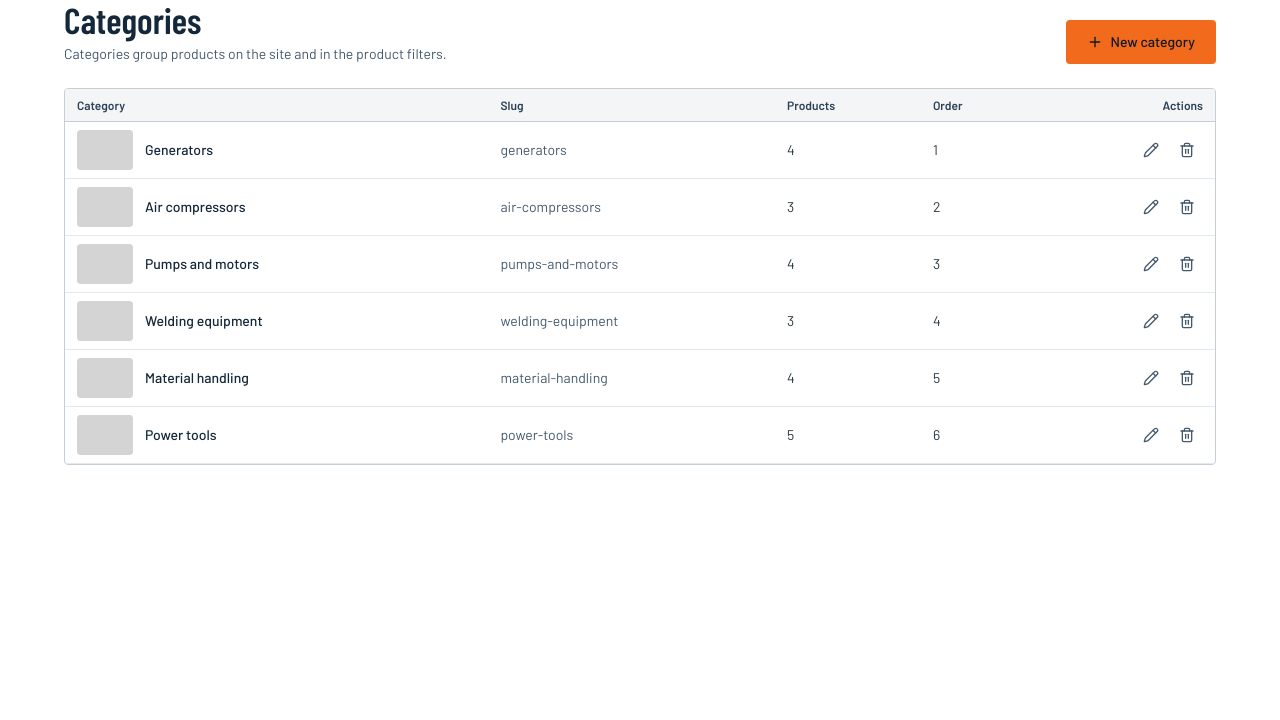
Test case: deleting a category that products use shows the reason and keeps the row
Click the button named "delete generators" at {"x": 1187, "y": 150}, box [1171,134,1203,166]
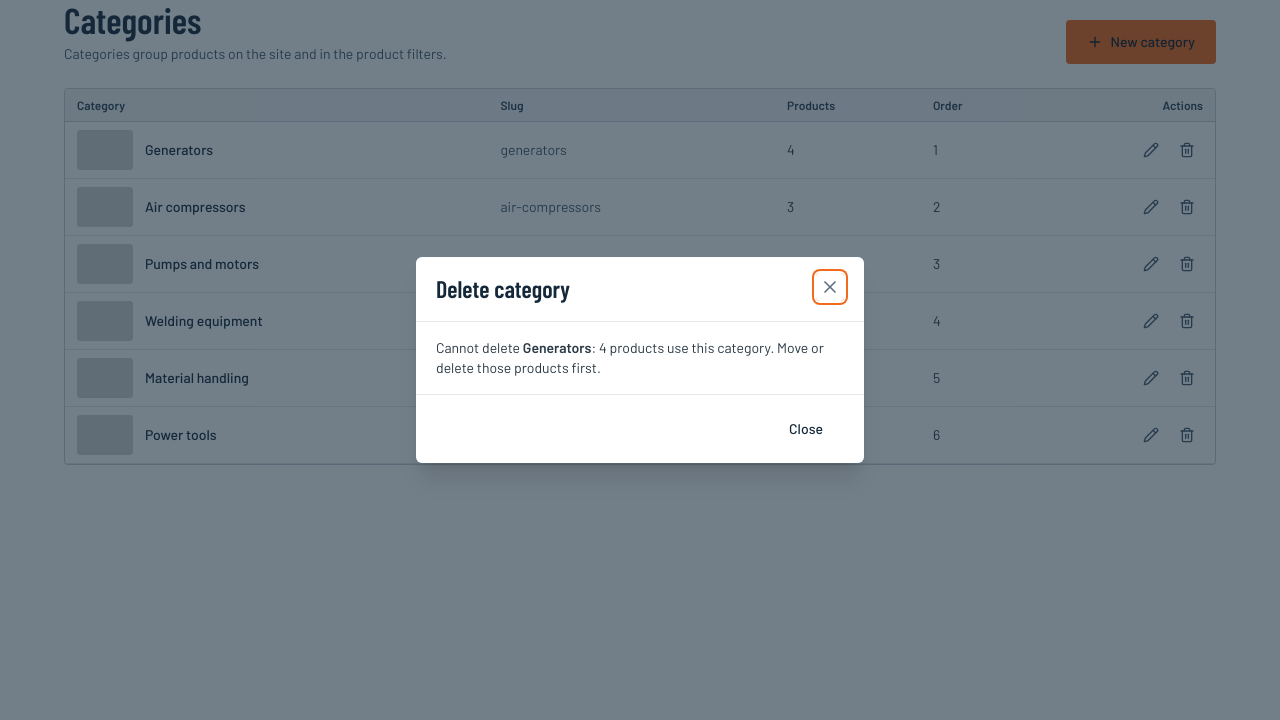
Check: the text "products use this category" is shown, box [599,339,770,356]
